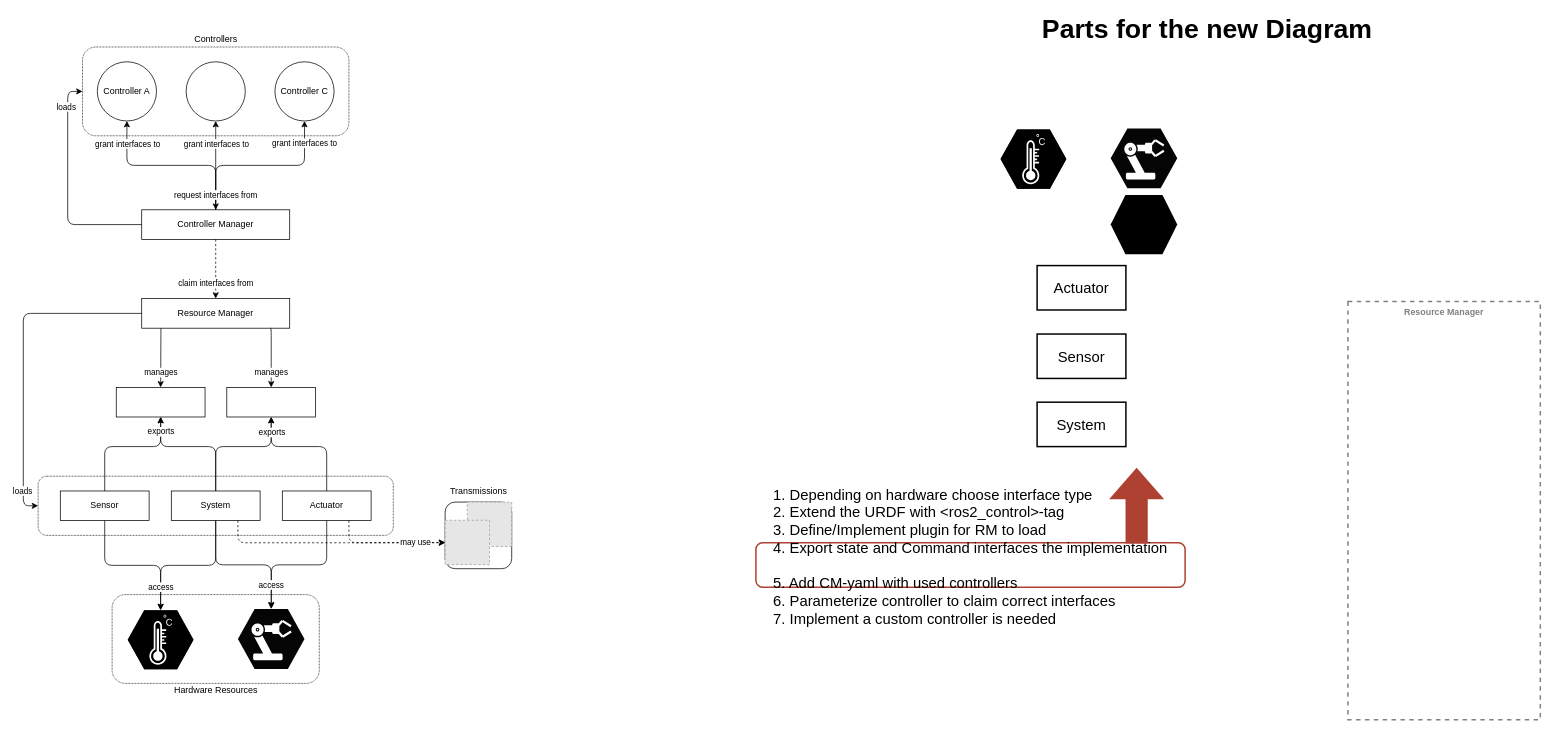
Some shapes in this 1554 by 733 pixel diagram are drawn without their labels. Grey dashed boxes stand in for pictures. The shapes that lost their labels are listed below. From the top down, each one's box as (x1, y1, x2, y2) in pixels, then its label:
(185, 61, 245, 121): Controller B
(116, 387, 205, 417): State Interface <read only>
(226, 387, 316, 417): Command Interface <read/write>
